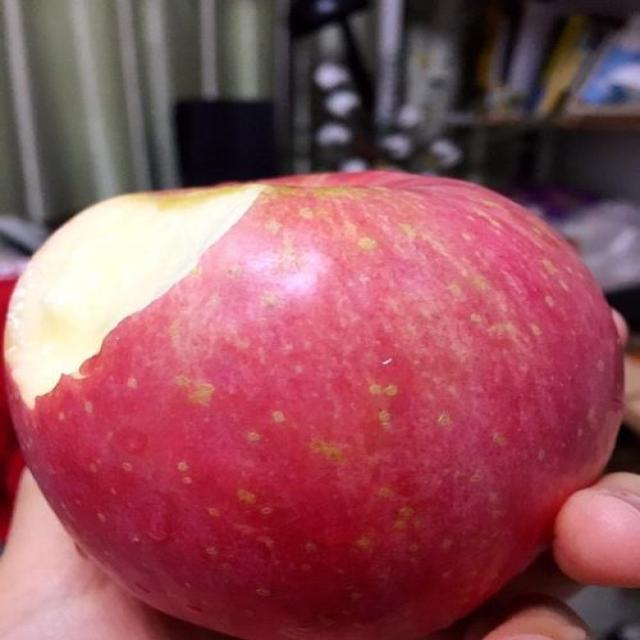Rotten: (6, 153, 639, 640)
